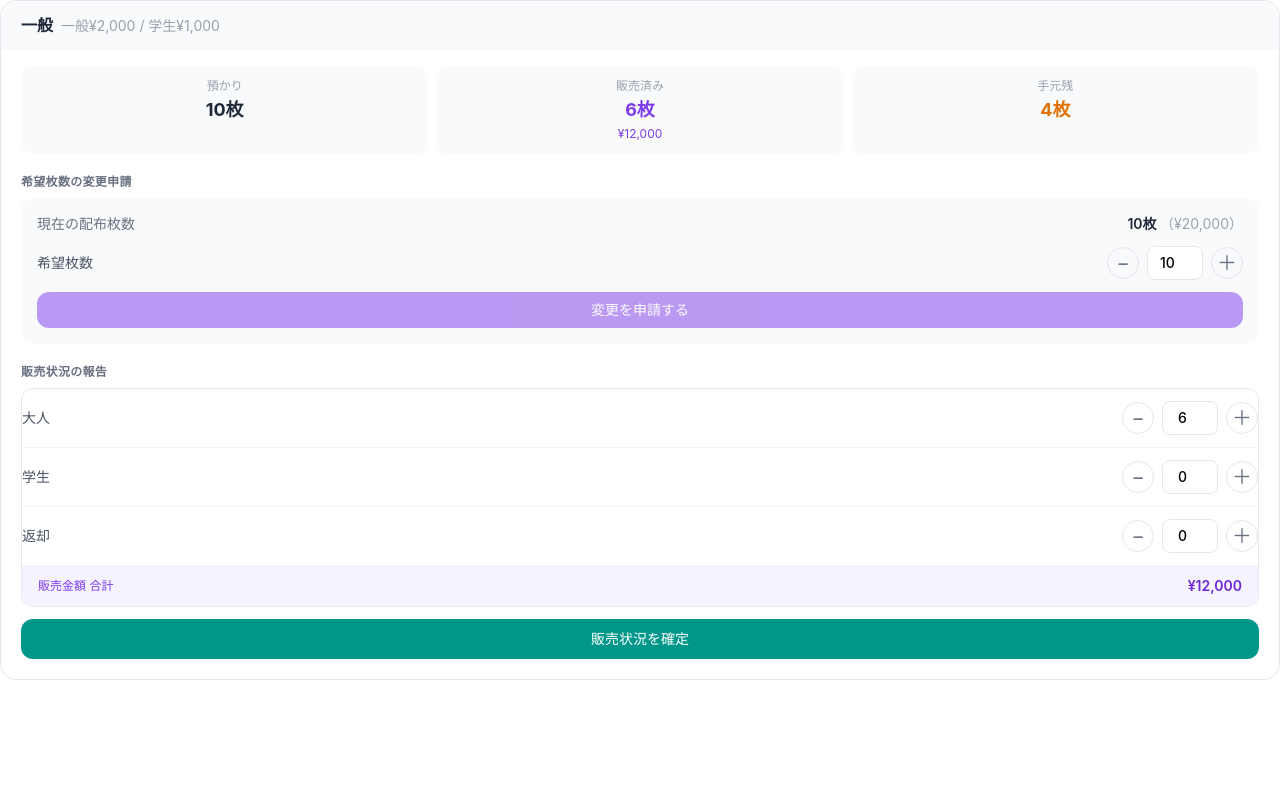
Test: BatchCard（保存の失敗） › 希望枚数の申請に失敗したら代わりの文言を表示する
Click the button named "希望枚数を増やす" at (1227, 263), box [1211,247,1243,279]
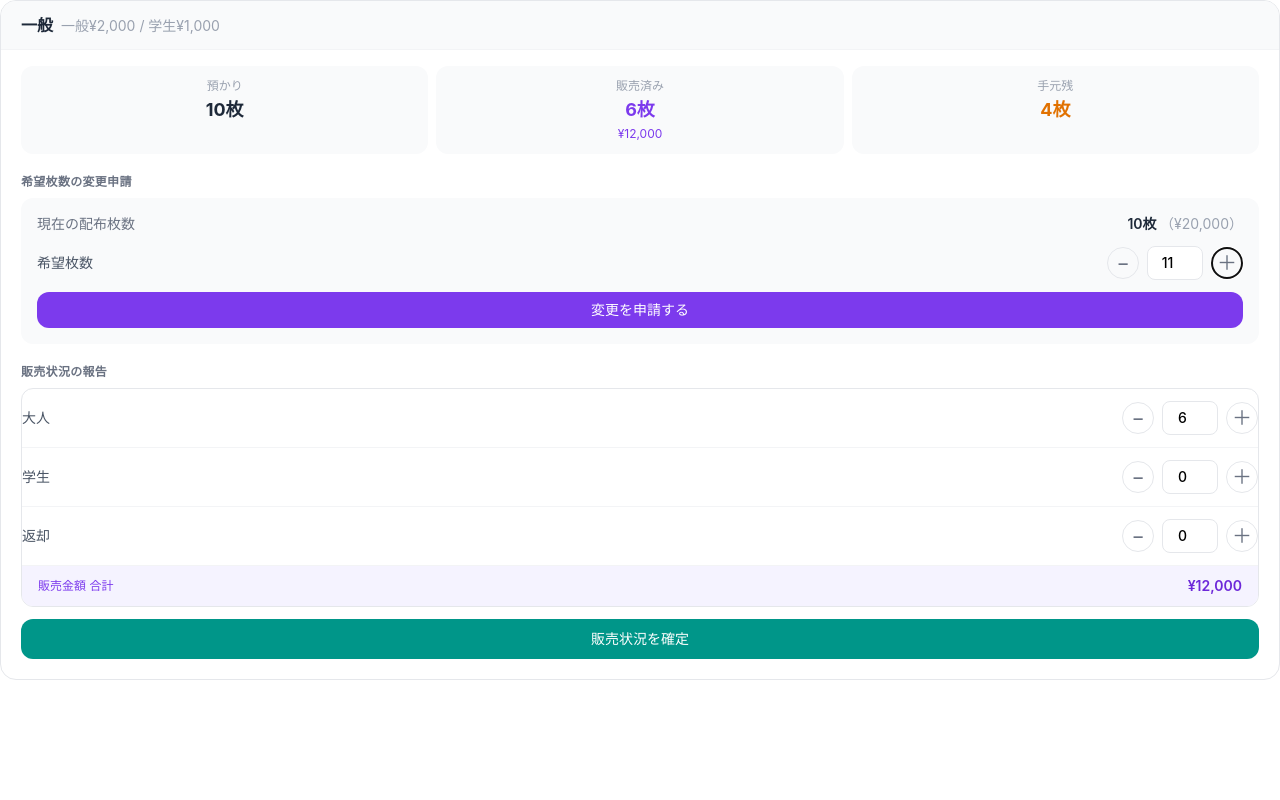
Click the button "変更を申請する" at (640, 310), box [37,292,1243,328]
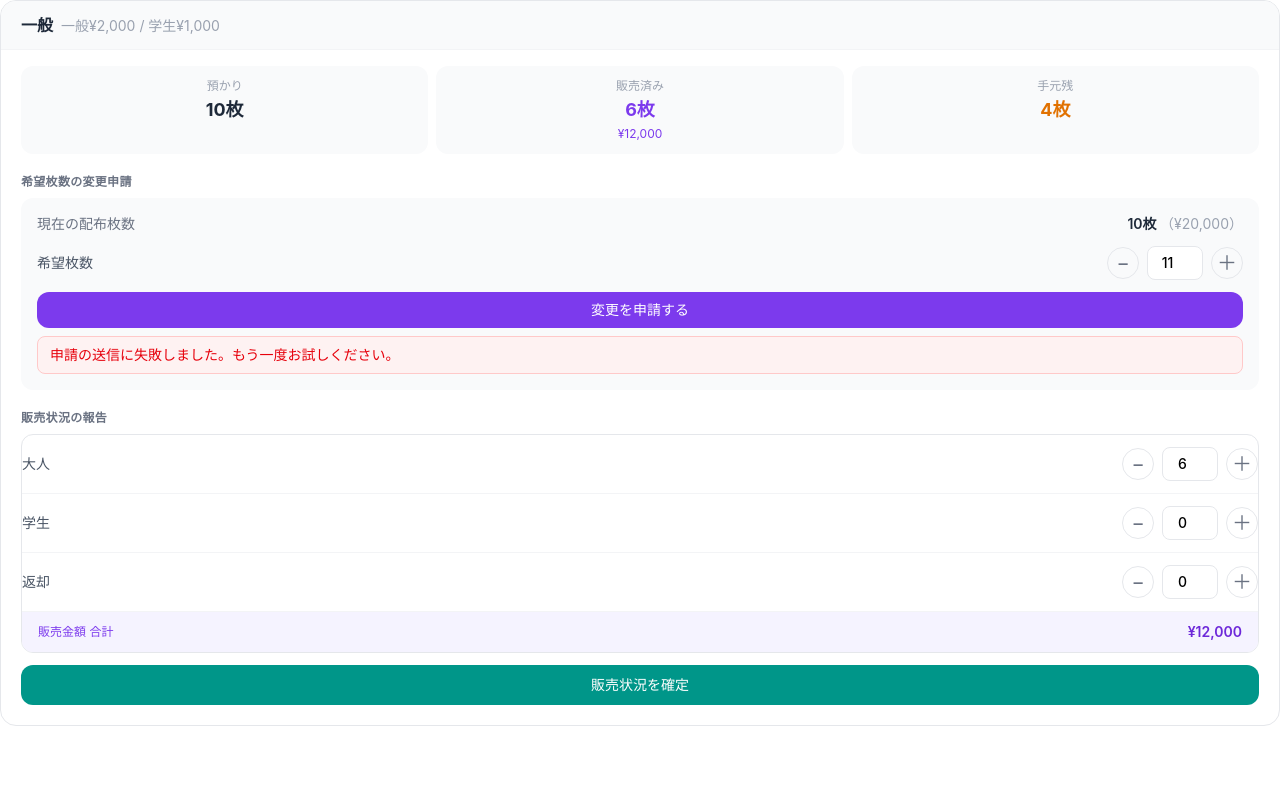
Expected: the message reads "申請の送信に失敗しました。もう一度お試しください。", [50,346,400,363]
